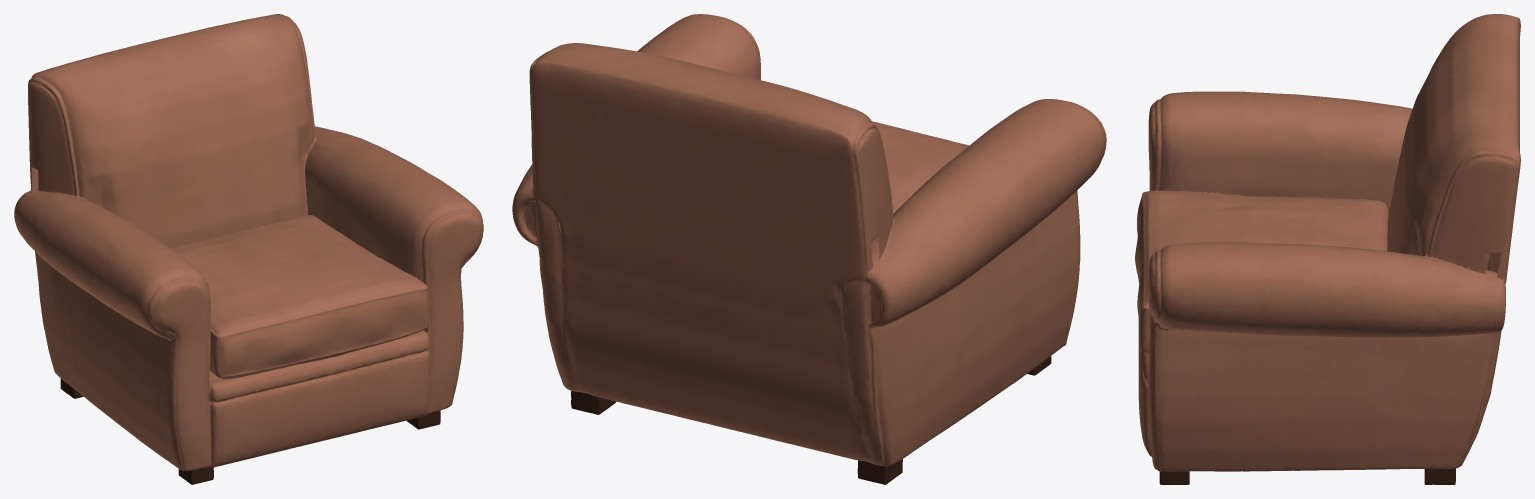
File: plush_armchair_ayddu5.glb
3 renders of one model, left to right at view 1: azimuth 30°, elevation 25°; view 2: azimuth 150°, elevation 25°; view 3: azimuth 270°, elevation 25°, orthographic. The views are drawn at different scales.
Parts seen in each view (by area): view 1: world; view 2: world; view 3: world.
Boxes of the visible parts, x1,y1,x2,y2 form: world: [14, 14, 483, 484]; world: [512, 14, 1106, 484]; world: [1135, 14, 1520, 484].
Size of the model in its own units: 0.9918 by 0.8446 by 0.8576.
Materials: 1 (1 with a texture image).
